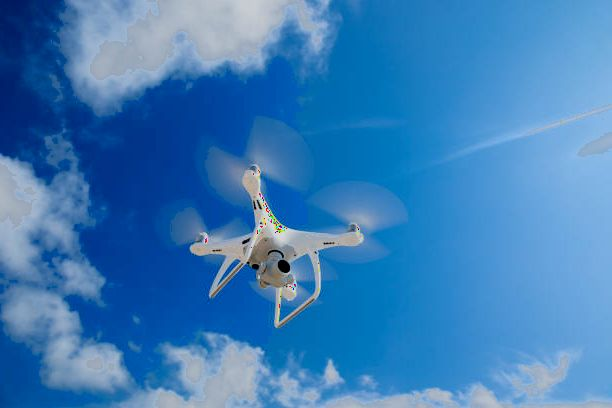Drone: (153, 112, 412, 348)
